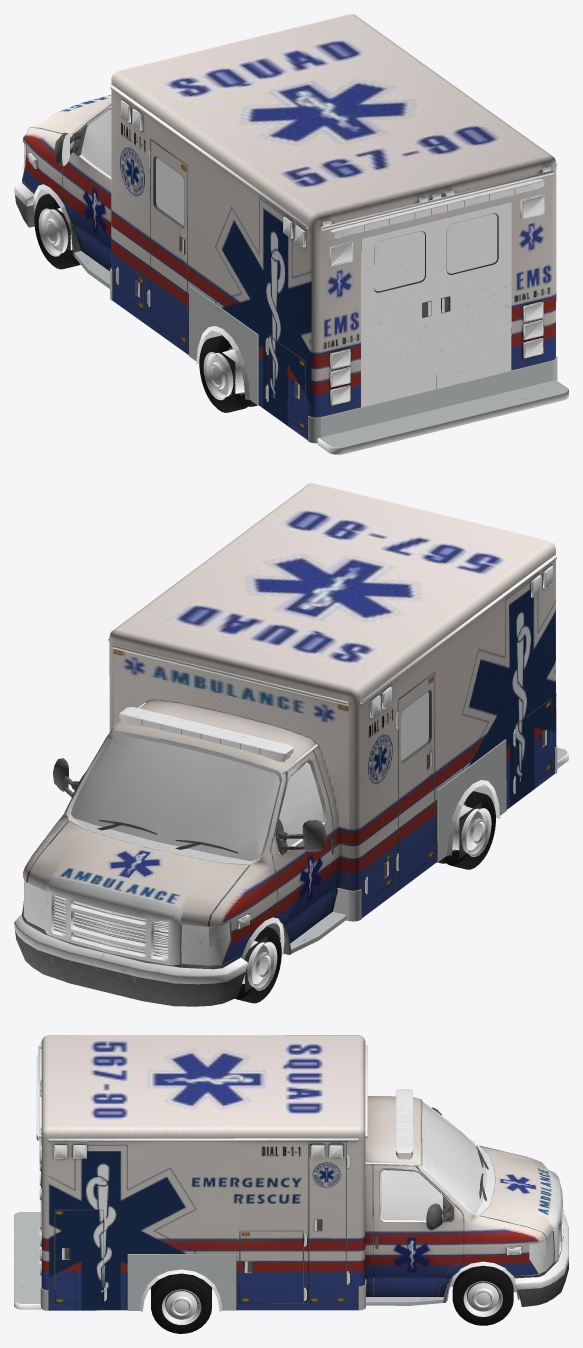
Rendered from ambulance.glb.
The picture shows the model from 3 angles, top to bottom: view 1: azimuth 30°, elevation 25°; view 2: azimuth 150°, elevation 25°; view 3: azimuth 270°, elevation 25°; orthographic projection. The views are drawn at different scales.
Parts seen in each view (by area): view 1: chrome; view 2: chrome; view 3: chrome.
Boxes of the visible parts, <box> form: chrome: <box>14,14,568,454</box>; chrome: <box>14,483,568,1006</box>; chrome: <box>14,1035,568,1333</box>.
Size of the model in its own units: 2.94 by 2.7 by 6.64.
Materials: 10 (10 with a texture image).
